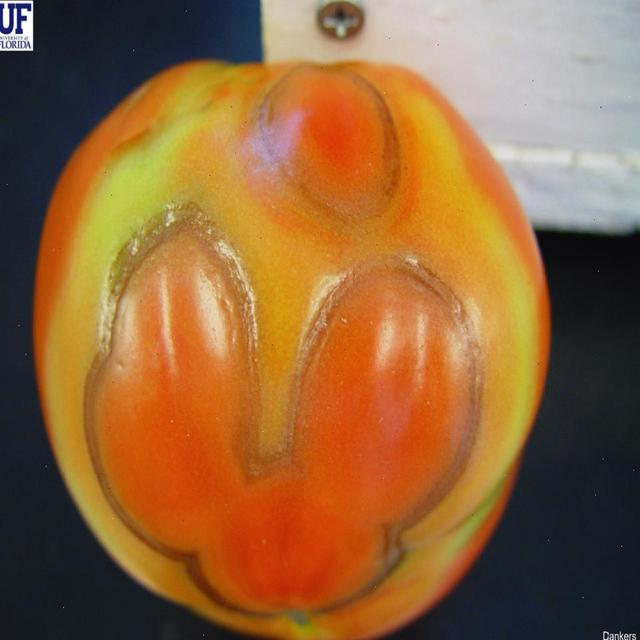Spotted wilt Virus Fruit: (124, 216, 395, 637)
